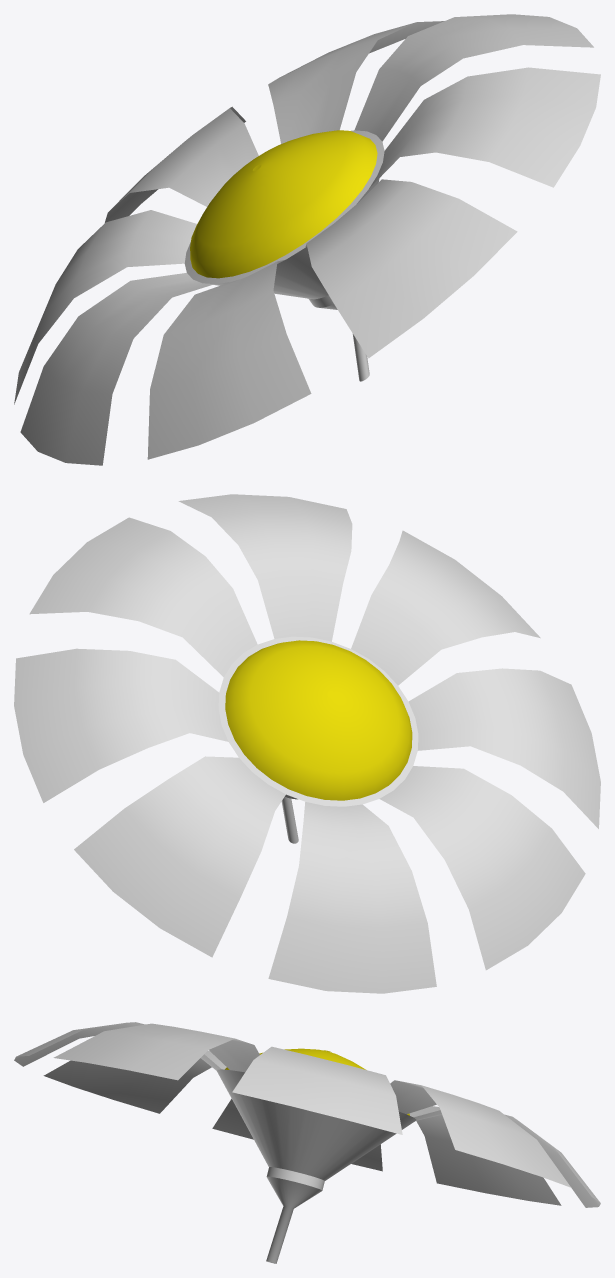
The model's file is CharacterSeed_Flower.fbx.
The picture shows the model from 3 angles, top to bottom: view 1: azimuth 30°, elevation 25°; view 2: azimuth 150°, elevation 25°; view 3: azimuth 270°, elevation 25°; orthographic projection. The views are drawn at different scales.
Parts seen in each view (by area): view 1: Daisy; view 2: Daisy; view 3: Daisy.
Boxes of the visible parts, x1=… form: Daisy: x1=14, y1=14, x2=600, y2=465; Daisy: x1=14, y1=494, x2=600, y2=993; Daisy: x1=14, y1=1022, x2=600, y2=1263.
Size of the model in its own units: 62.86 by 38.62 by 69.04.
